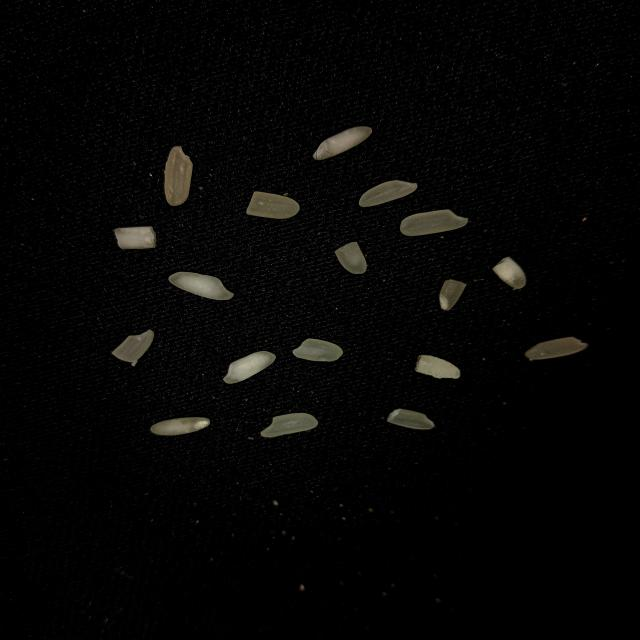Broken: (246, 191, 300, 219), (112, 329, 154, 363), (293, 338, 343, 362), (492, 256, 526, 289), (415, 355, 461, 379), (335, 242, 367, 274), (387, 408, 435, 429), (114, 227, 156, 249), (439, 279, 467, 310)
Full: (313, 126, 372, 161), (168, 272, 234, 300), (400, 209, 468, 236), (223, 351, 276, 384), (165, 146, 193, 206), (359, 180, 418, 207), (524, 336, 588, 360), (260, 412, 318, 438), (151, 417, 210, 436)
